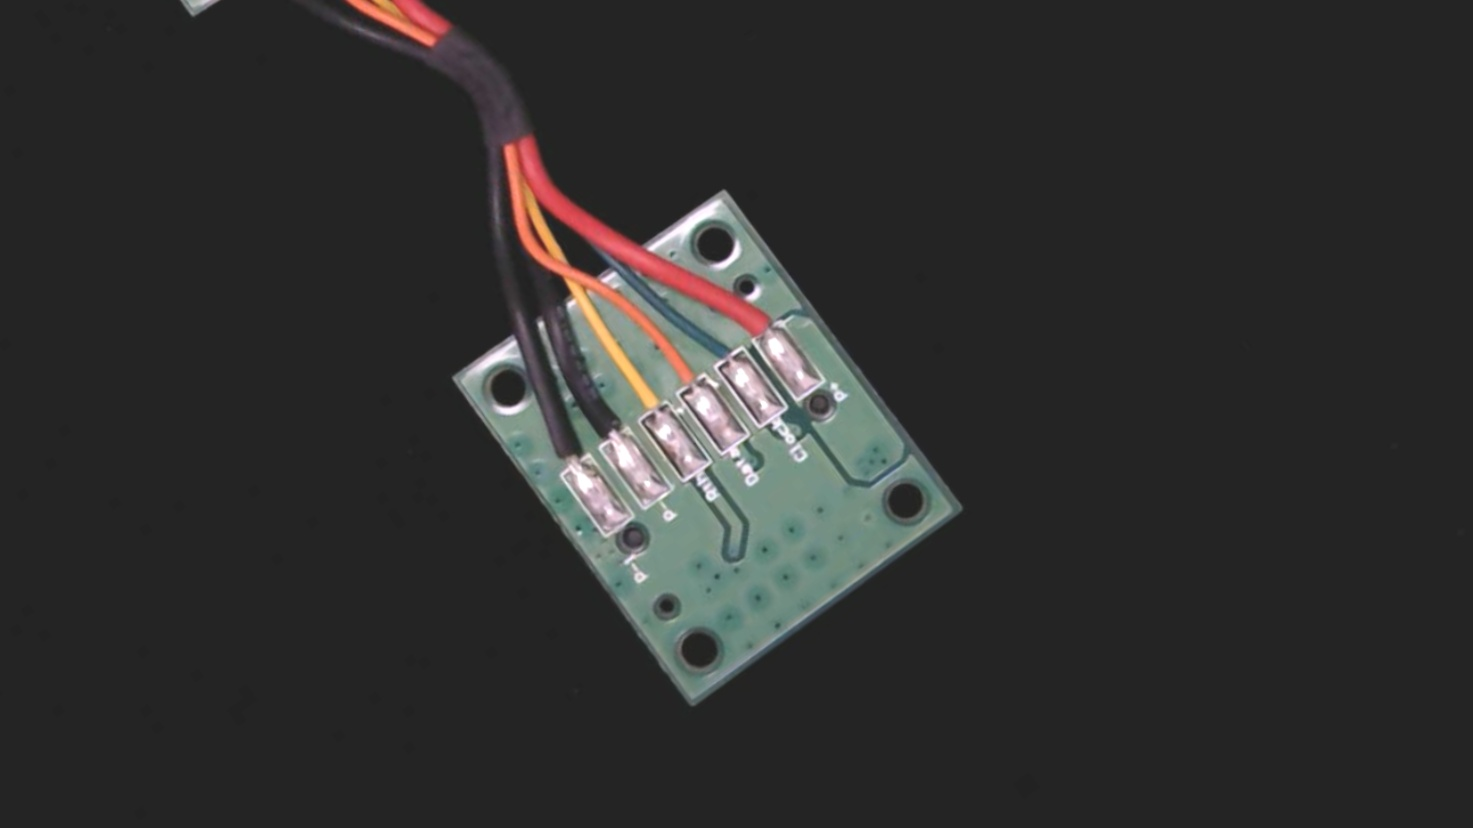Black: (562, 378, 638, 463)
Black1: (519, 403, 601, 493)
Green: (684, 309, 758, 387)
Orange: (639, 326, 717, 411)
Red: (714, 271, 794, 359)
Yellow: (593, 342, 680, 439)
